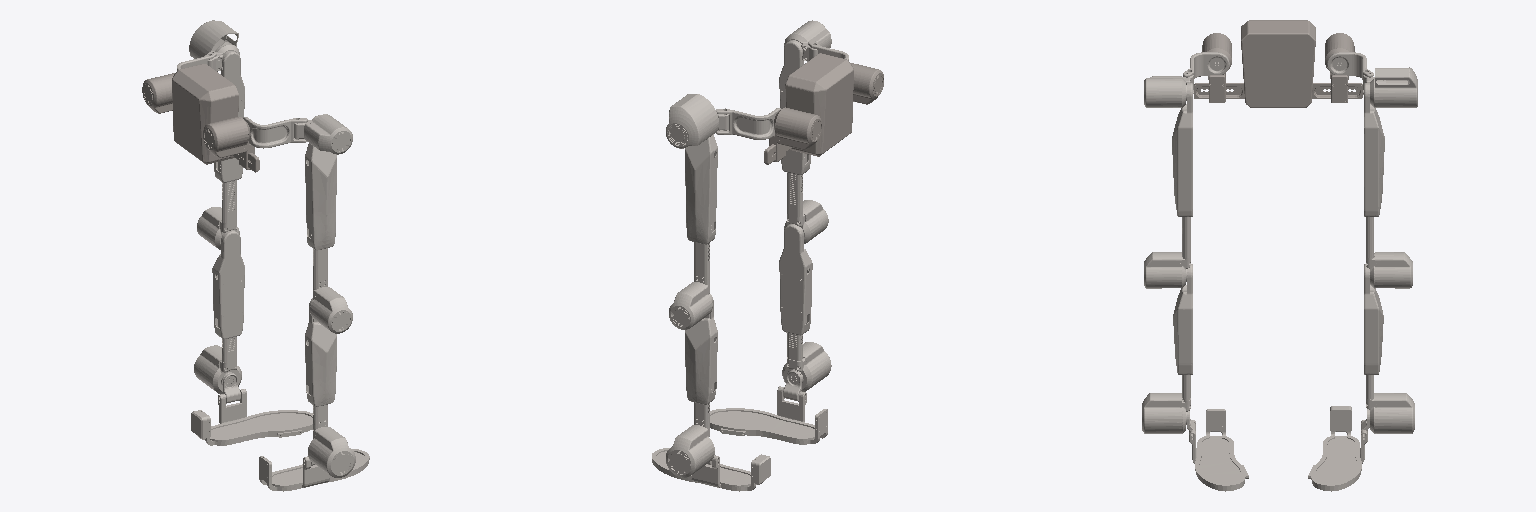
URDF robot description (exo_humanoid):
<?xml version="1.0" encoding="utf-8"?>
<!-- This URDF was automatically created by SolidWorks to URDF Exporter! Originally created by [author] ([email redacted]) 
     Commit Version: 1.6.0-4-g7f85cfe  Build Version: 1.6.7995.38578
     For more information, please see http://wiki.ros.org/sw_urdf_exporter -->
<robot
  name="exo_humanoid">

  <link
    name="trunk">
    <inertial>
      <origin
        xyz="-0.045535 0.00015534 -0.018956"
        rpy="0 0 0" />
      <mass
        value="5.1535" />
      <inertia
        ixx="0.051327"
        ixy="-4.1E-05"
        ixz="0.003873"
        iyy="0.02473"
        iyz="2.1E-05"
        izz="0.053347" />
    </inertial>
    <visual>
      <origin
        xyz="0 0 0"
        rpy="0 0 0" />
      <geometry>
        <mesh
          filename="package://exo_humanoid/meshes/trunk.STL" />
      </geometry>
      <material
        name="">
        <color
          rgba="0.68627 0.65882 0.63922 1" />
      </material>
    </visual>
    <collision>
      <origin
        xyz="0 0 0"
        rpy="0 0 0" />
      <geometry>
        <mesh
          filename="package://exo_humanoid/meshes/trunk.STL" />
      </geometry>
    </collision>
  </link>
  
  <!-- ************************************************************ -->
  <!-- ************************ Left Leg ************************** -->
  <!-- ************************************************************ -->

  <!-- ************* part 1 *************** -->  
  <link
    name="L_hip">
    <inertial>
      <origin
        xyz="0.13584 0.096254 0.0050847"
        rpy="0 0 0" />
      <mass
        value="1.0798" />
      <inertia
        ixx="0.012708"
        ixy="0.016444"
        ixz="0.00095"
        iyy="0.024318"
        iyz="0.000712"
        izz="0.035953" />
    </inertial>
    <visual>
      <origin
        xyz="0 0 0"
        rpy="0 0 0" />
      <geometry>
        <mesh
          filename="package://exo_humanoid/meshes/L_hip.STL" />
      </geometry>
      <material
        name="">
        <color
          rgba="0.77647 0.75686 0.73725 1" />
      </material>
    </visual>
    <collision>
      <origin
        xyz="0 0 0"
        rpy="0 0 0" />
      <geometry>
        <mesh
          filename="package://exo_humanoid/meshes/L_hip.STL" />
      </geometry>
    </collision>
  </link>
  <joint
    name="L_hip_joint"
    type="revolute">
    <origin
      xyz="-0.0155 0.145 0.010652"
      rpy="0 0 0" />
    <parent
      link="trunk" />
    <child
      link="L_hip" />
    <axis
      xyz="-1 0 0" />
    <limit
      lower="-0.3"
      upper="0.15"
      effort="200"
      velocity="1" />
  </joint>

<!-- ************* part 2 *************** -->  
  <link
    name="L_hip2">
    <inertial>
      <origin
        xyz="8.1754E-05 0.023911 -0.33627"
        rpy="0 0 0" />
      <mass
        value="1.3057" />
      <inertia
        ixx="0.18782"
        ixy="3E-06"
        ixz="-3.1E-05"
        iyy="0.186504"
        iyz="-0.01407"
        izz="0.002077" />
    </inertial>
    <visual>
      <origin
        xyz="0 0 0"
        rpy="0 0 0" />
      <geometry>
        <mesh
          filename="package://exo_humanoid/meshes/L_hip2.STL" />
      </geometry>
      <material
        name="">
        <color
          rgba="0.77647 0.75686 0.73725 1" />
      </material>
    </visual>
    <collision>
      <origin
        xyz="0 0 0"
        rpy="0 0 0" />
      <geometry>
        <mesh
          filename="package://exo_humanoid/meshes/L_hip2.STL" />
      </geometry>
    </collision>
  </link>
  <joint
    name="L_hip2_joint"
    type="revolute">
    <origin
      xyz="0.164 0.071 0"
      rpy="0 0 0" />
    <parent
      link="L_hip" />
    <child
      link="L_hip2" />
    <axis
      xyz="0 1 0" />
    <limit
      lower="-0.75"
      upper="0.75"
      effort="200"
      velocity="1" />
  </joint>
 
  <!-- ************* part 3 *************** -->  
  <link
    name="L_calf">
    <inertial>
      <origin
        xyz="-1.7238E-05 0.029552 -0.29435"
        rpy="0 0 0" />
      <mass
        value="1.4861" />
      <inertia
        ixx="0.155166"
        ixy="-7E-06"
        ixz="2.1E-05"
        iyy="0.153172"
        iyz="-0.015978"
        izz="0.003014" />
    </inertial>
    <visual>
      <origin
        xyz="0 0 0"
        rpy="0 0 0" />
      <geometry>
        <mesh
          filename="package://exo_humanoid/meshes/L_calf.STL" />
      </geometry>
      <material
        name="">
        <color
          rgba="0.77647 0.75686 0.73725 1" />
      </material>
    </visual>
    <collision>
      <origin
        xyz="0 0 0"
        rpy="0 0 0" />
      <geometry>
        <mesh
          filename="package://exo_humanoid/meshes/L_calf.STL" />
      </geometry>
    </collision>
  </link>
  <joint
    name="L_calf_joint"
    type="revolute">
    <origin
      xyz="0 0 -0.472"
      rpy="0 0 0" />
    <parent
      link="L_hip2" />
    <child
      link="L_calf" />
    <axis
      xyz="0 1 0" />
    <limit
      lower="-0.5"
      upper="1.5"
      effort="200"
      velocity="1" />
  </joint>
  
  <!-- ************* part 4 *************** --> 
  <link
    name="L_toe">
    <inertial>
      <origin
        xyz="0.026161 -0.060661 -0.087888"
        rpy="0 0 0" />
      <mass
        value="0.97241" />
      <inertia
        ixx="0.013637"
        ixy="-0.002384"
        ixz="-0.00302"
        iyy="0.015117"
        iyz="0.006018"
        izz="0.011377" />
    </inertial>
    <visual>
      <origin
        xyz="0 0 0"
        rpy="0 0 0" />
      <geometry>
        <mesh
          filename="package://exo_humanoid/meshes/L_toe.STL" />
      </geometry>
      <material
        name="">
        <color
          rgba="0.77647 0.75686 0.73725 1" />
      </material>
    </visual>
    <collision>
      <origin
        xyz="0 0 0"
        rpy="0 0 0" />
      <geometry>
        <mesh
          filename="package://exo_humanoid/meshes/L_toe.STL" />
      </geometry>
    </collision>
  </link>
  <joint
    name="L_toe_joint"
    type="revolute">
    <origin
      xyz="0 0 -0.373"
      rpy="0 0 0" />
    <parent
      link="L_calf" />
    <child
      link="L_toe" />
    <axis
      xyz="0 1 0" />
    <limit
      lower="-1.0"
      upper="1.0"
      effort="200"
      velocity="1" />
  </joint>
  
  <!-- ************* part 5 *************** -->   
  <link name="L_foot">
    <inertial>
      <mass value="0.01" />
      <inertia ixx="0.000001" ixy="0" ixz="0" iyy="0.000001" iyz="0" izz="0.000001" />
    </inertial>
    <visual>
      <origin xyz="0 0 0" rpy="0 0 0" />
      <geometry>
       <sphere radius="0.001"/>
      </geometry>
    </visual>
    <collision>
      <origin xyz="0 0 0" rpy="0 0 0" />
      <geometry>
       <sphere radius="0.001"/>
      </geometry>
    </collision>
  </link>
  <joint name="L_foot_fixed" type="fixed">
    <origin xyz="0.0 -0.074545 -0.115" rpy="0 0 0" />
    <parent link="L_toe" />
    <child link="L_foot" />
  </joint>

  
  <!-- ************************************************************ -->
  <!-- ************************ Right Leg ************************** -->
  <!-- ************************************************************ -->

  <!-- ************* part 1 *************** --> 
  <link
    name="R_hip">
    <inertial>
      <origin
        xyz="0.13129 -0.091188 -3.1477E-05"
        rpy="0 0 0" />
      <mass
        value="0.95367" />
      <inertia
        ixx="0.010039"
        ixy="-0.013568"
        ixz="-5E-06"
        iyy="0.020326"
        iyz="5E-06"
        izz="0.029849" />
    </inertial>
    <visual>
      <origin
        xyz="0 0 0"
        rpy="0 0 0" />
      <geometry>
        <mesh
          filename="package://exo_humanoid/meshes/R_hip.STL" />
      </geometry>
      <material
        name="">
        <color
          rgba="0.77647 0.75686 0.73725 1" />
      </material>
    </visual>
    <collision>
      <origin
        xyz="0 0 0"
        rpy="0 0 0" />
      <geometry>
        <mesh
          filename="package://exo_humanoid/meshes/R_hip.STL" />
      </geometry>
    </collision>
  </link>
  <joint
    name="R_hip_joint"
    type="revolute">
    <origin
      xyz="-0.0155 -0.145 0.010652"
      rpy="0 0 0" />
    <parent
      link="trunk" />
    <child
      link="R_hip" />
    <axis
      xyz="-1 0 0" />
    <limit
      lower="-0.15"
      upper="0.3"
      effort="200"
      velocity="1" />
  </joint>
  
  <!-- ************* part 2 *************** -->   
  <link
    name="R_hip2">
    <inertial>
      <origin
        xyz="3.8306E-05 -0.023897 -0.33631"
        rpy="0 0 0" />
      <mass
        value="1.3064" />
      <inertia
        ixx="0.187873"
        ixy="2E-06"
        ixz="-3E-06"
        iyy="0.186557"
        iyz="0.014068"
        izz="0.002078" />
    </inertial>
    <visual>
      <origin
        xyz="0 0 0"
        rpy="0 0 0" />
      <geometry>
        <mesh
          filename="package://exo_humanoid/meshes/R_hip2.STL" />
      </geometry>
      <material
        name="">
        <color
          rgba="0.77647 0.75686 0.73725 1" />
      </material>
    </visual>
    <collision>
      <origin
        xyz="0 0 0"
        rpy="0 0 0" />
      <geometry>
        <mesh
          filename="package://exo_humanoid/meshes/R_hip2.STL" />
      </geometry>
    </collision>
  </link>
  <joint
    name="R_hip2_joint"
    type="revolute">
    <origin
      xyz="0.164 -0.071 0"
      rpy="0 0 0" />
    <parent
      link="R_hip" />
    <child
      link="R_hip2" />
    <axis
      xyz="0 -1 0" />
    <limit
      lower="-0.75"
      upper="0.75"
      effort="200"
      velocity="1" />
  </joint>
  
  <!-- ************* part 3 *************** -->    
  <link
    name="R_calf">
    <inertial>
      <origin
        xyz="8.8182E-05 -0.029552 -0.29447"
        rpy="0 0 0" />
      <mass
        value="1.4861" />
      <inertia
        ixx="0.155277"
        ixy="-7E-06"
        ixz="-3.8E-05"
        iyy="0.153284"
        iyz="0.015978"
        izz="0.003014" />
    </inertial>
    <visual>
      <origin
        xyz="0 0 0"
        rpy="0 0 0" />
      <geometry>
        <mesh
          filename="package://exo_humanoid/meshes/R_calf.STL" />
      </geometry>
      <material
        name="">
        <color
          rgba="0.77647 0.75686 0.73725 1" />
      </material>
    </visual>
    <collision>
      <origin
        xyz="0 0 0"
        rpy="0 0 0" />
      <geometry>
        <mesh
          filename="package://exo_humanoid/meshes/R_calf.STL" />
      </geometry>
    </collision>
  </link>
  <joint
    name="R_calf_joint"
    type="revolute">
    <origin
      xyz="0 0 -0.472"
      rpy="0 0 0" />
    <parent
      link="R_hip2" />
    <child
      link="R_calf" />
    <axis
      xyz="0 -1 0" />
    <limit
      lower="-1.5"
      upper="0.5"
      effort="200"
      velocity="1" />
  </joint>
  
  <!-- ************* part 4 *************** -->     
  <link
    name="R_toe">
    <inertial>
      <origin
        xyz="0.030306 0.060458 -0.088755"
        rpy="0 0 0" />
      <mass
        value="0.9462" />
      <inertia
        ixx="0.013418"
        ixy="0.002604"
        ixz="-0.003204"
        iyy="0.014624"
        iyz="-0.005917"
        izz="0.010847" />
    </inertial>
    <visual>
      <origin
        xyz="0 0 0"
        rpy="0 0 0" />
      <geometry>
        <mesh
          filename="package://exo_humanoid/meshes/R_toe.STL" />
      </geometry>
      <material
        name="">
        <color
          rgba="0.77647 0.75686 0.73725 1" />
      </material>
    </visual>
    <collision>
      <origin
        xyz="0 0 0"
        rpy="0 0 0" />
      <geometry>
        <mesh
          filename="package://exo_humanoid/meshes/R_toe.STL" />
      </geometry>
    </collision> 
  </link>
  <joint
    name="R_toe_joint"
    type="revolute">
    <origin
      xyz="0 0 -0.373"
      rpy="0 0 0" />
    <parent
      link="R_calf" />
    <child
      link="R_toe" />
    <axis
      xyz="0 -1 0" />
    <limit
      lower="-1.0"
      upper="1.0"
      effort="200"
      velocity="1" />
  </joint>
  
  <!-- ************* part 5 *************** -->    
  <link name="R_foot">
    <inertial>
      <mass value="0.01" />
      <inertia ixx="0.000001" ixy="0" ixz="0" iyy="0.000001" iyz="0" izz="0.000001" />
    </inertial>
    <visual>
      <origin xyz="0 0 0" rpy="0 0 0" />
      <geometry>
       <sphere radius="0.001"/>
      </geometry>
    </visual>
    <collision>
      <origin xyz="0 0 0" rpy="0 0 0" />
      <geometry>
       <sphere radius="0.001"/>
      </geometry>
    </collision>
  </link>
  <joint name="R_foot_fixed" type="fixed">
    <origin xyz="0.0 0.074545 -0.115" rpy="0 0 0" />
    <parent link="R_toe" />
    <child link="R_foot" />
  </joint>  

</robot>

--- Facts derived from the render (not from the file) ---
Views: 3 orthographic renders of the robot side by side, from view 1: azimuth 30°, elevation 25°; view 2: azimuth 150°, elevation 25°; view 3: azimuth 270°, elevation 25°.
Model exo_humanoid with 11 links and 10 joints (8 revolute, 2 fixed), rooted at trunk, posed all joints at 0.
Links seen in each view (by area): view 1: trunk, R_hip2, L_calf, R_calf, L_toe, L_hip2, R_hip, R_toe, L_hip; view 2: trunk, L_hip2, R_calf, L_calf, R_toe, L_hip, R_hip2, L_toe, R_hip; view 3: trunk, R_hip2, L_hip2, R_calf, L_calf, L_toe, R_toe, L_hip, R_hip.
Boxes of the visible links, x1,y1,x2,y2 form: trunk: [142, 64, 259, 172]; R_hip2: [305, 115, 352, 333]; L_calf: [194, 230, 244, 393]; R_calf: [305, 298, 355, 477]; L_toe: [191, 372, 312, 445]; L_hip2: [197, 51, 244, 249]; R_hip: [243, 114, 352, 154]; R_toe: [259, 449, 369, 491]; L_hip: [177, 20, 239, 71]; trunk: [764, 53, 883, 164]; L_hip2: [669, 134, 717, 329]; R_calf: [779, 224, 831, 391]; L_calf: [666, 294, 717, 477]; R_toe: [710, 369, 827, 444]; L_hip: [666, 94, 780, 148]; R_hip2: [779, 40, 828, 243]; L_toe: [652, 448, 770, 491]; R_hip: [784, 20, 848, 61]; trunk: [1194, 20, 1362, 107]; R_hip2: [1144, 83, 1192, 288]; L_hip2: [1364, 83, 1412, 288]; R_calf: [1142, 264, 1192, 433]; L_calf: [1364, 264, 1414, 433]; L_toe: [1308, 406, 1369, 491]; R_toe: [1186, 409, 1248, 491]; L_hip: [1327, 52, 1417, 107]; R_hip: [1144, 52, 1229, 107].
Bounding box of the posed robot: 0.4485 × 0.6522 × 1.05 m (x, y, z).
9 mesh visuals loaded from 9 distinct referenced files (9 binary STL).